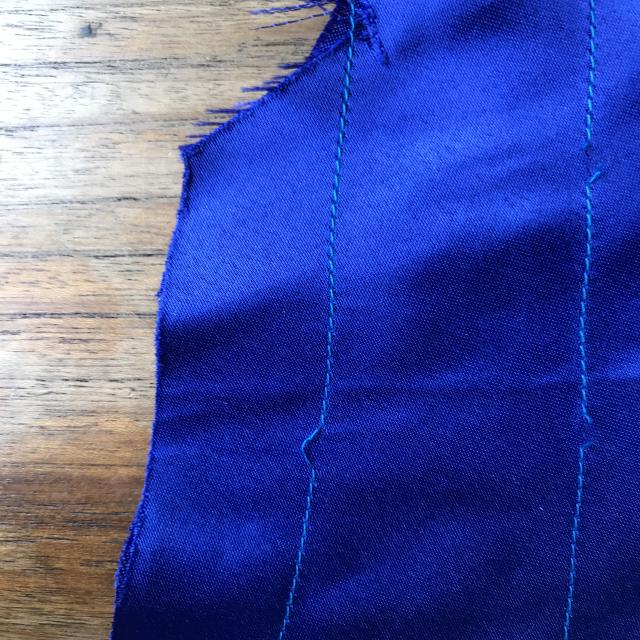broken: (548, 115, 622, 212), (560, 379, 611, 472)
good: (311, 149, 362, 297)
skip: (288, 398, 346, 484)
